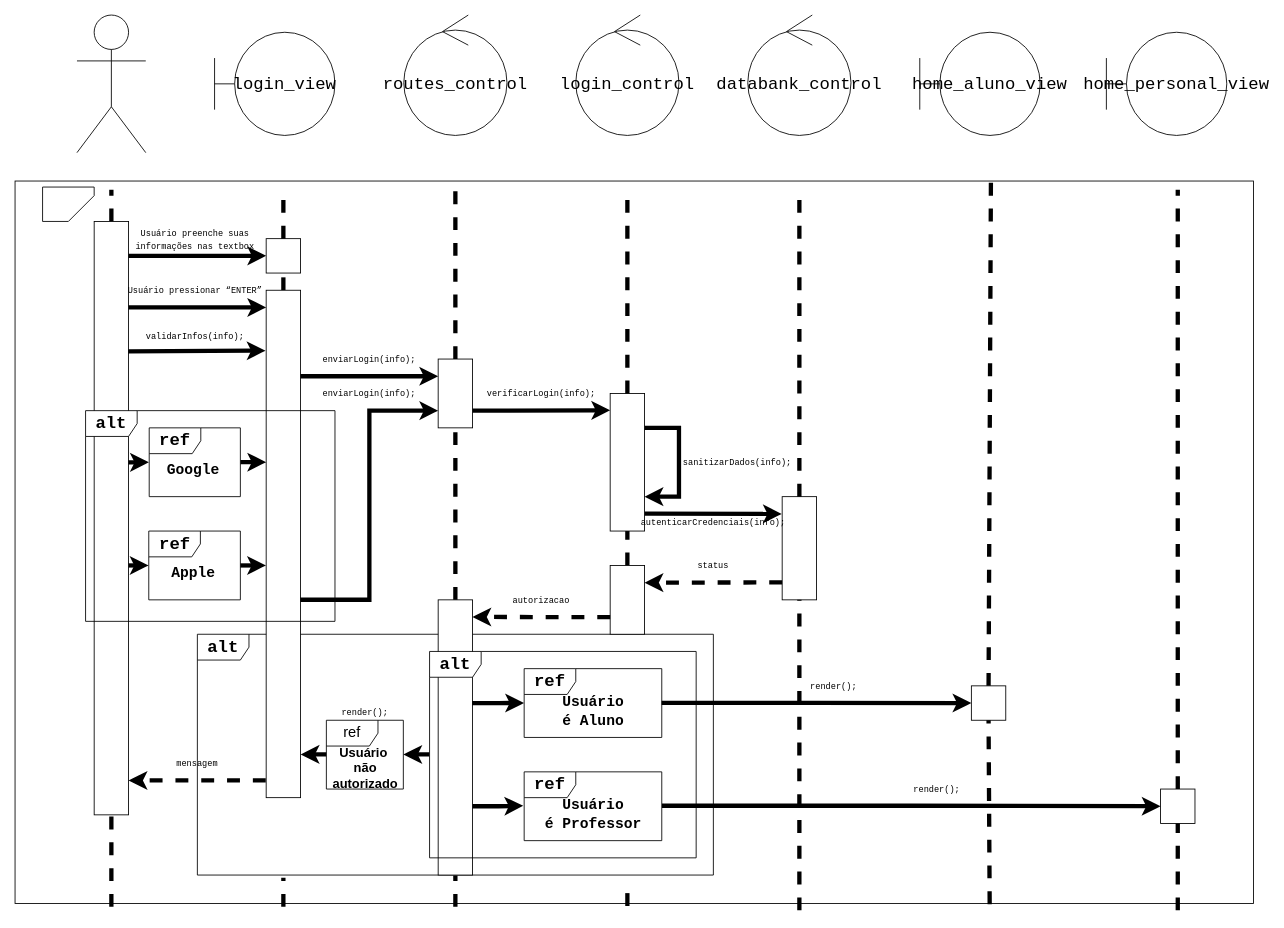
Some shapes in this 1284 by 928 pixel diagram are drawn without their labels. Here are the shapes that lost their labels. From the top down, the centre of each, then its label:
At (111,83): "Usuário".
At (68,203): "LOOP".
